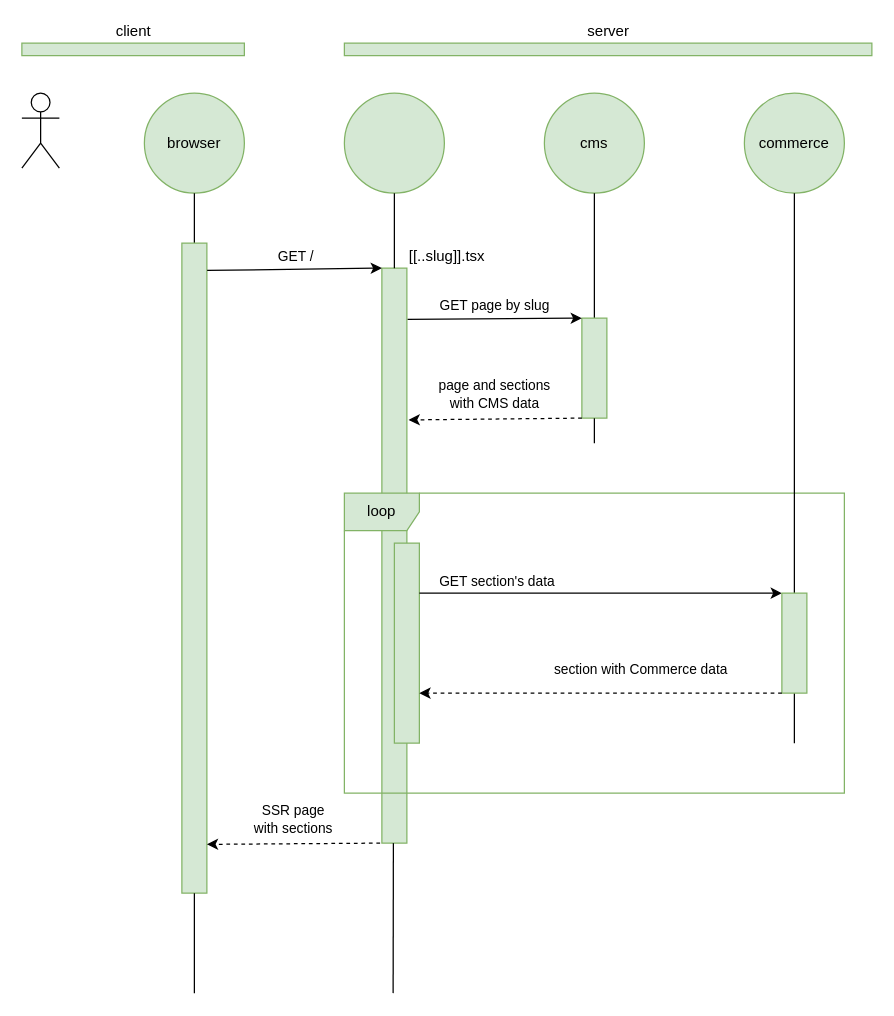
Image size: 894x1016. Some labels were removed from this diagram. Each missing label, with the centre of its shape:
app: point (393, 142)
for each section which needs Commerce data: point (406, 642)
User: point (40, 130)
